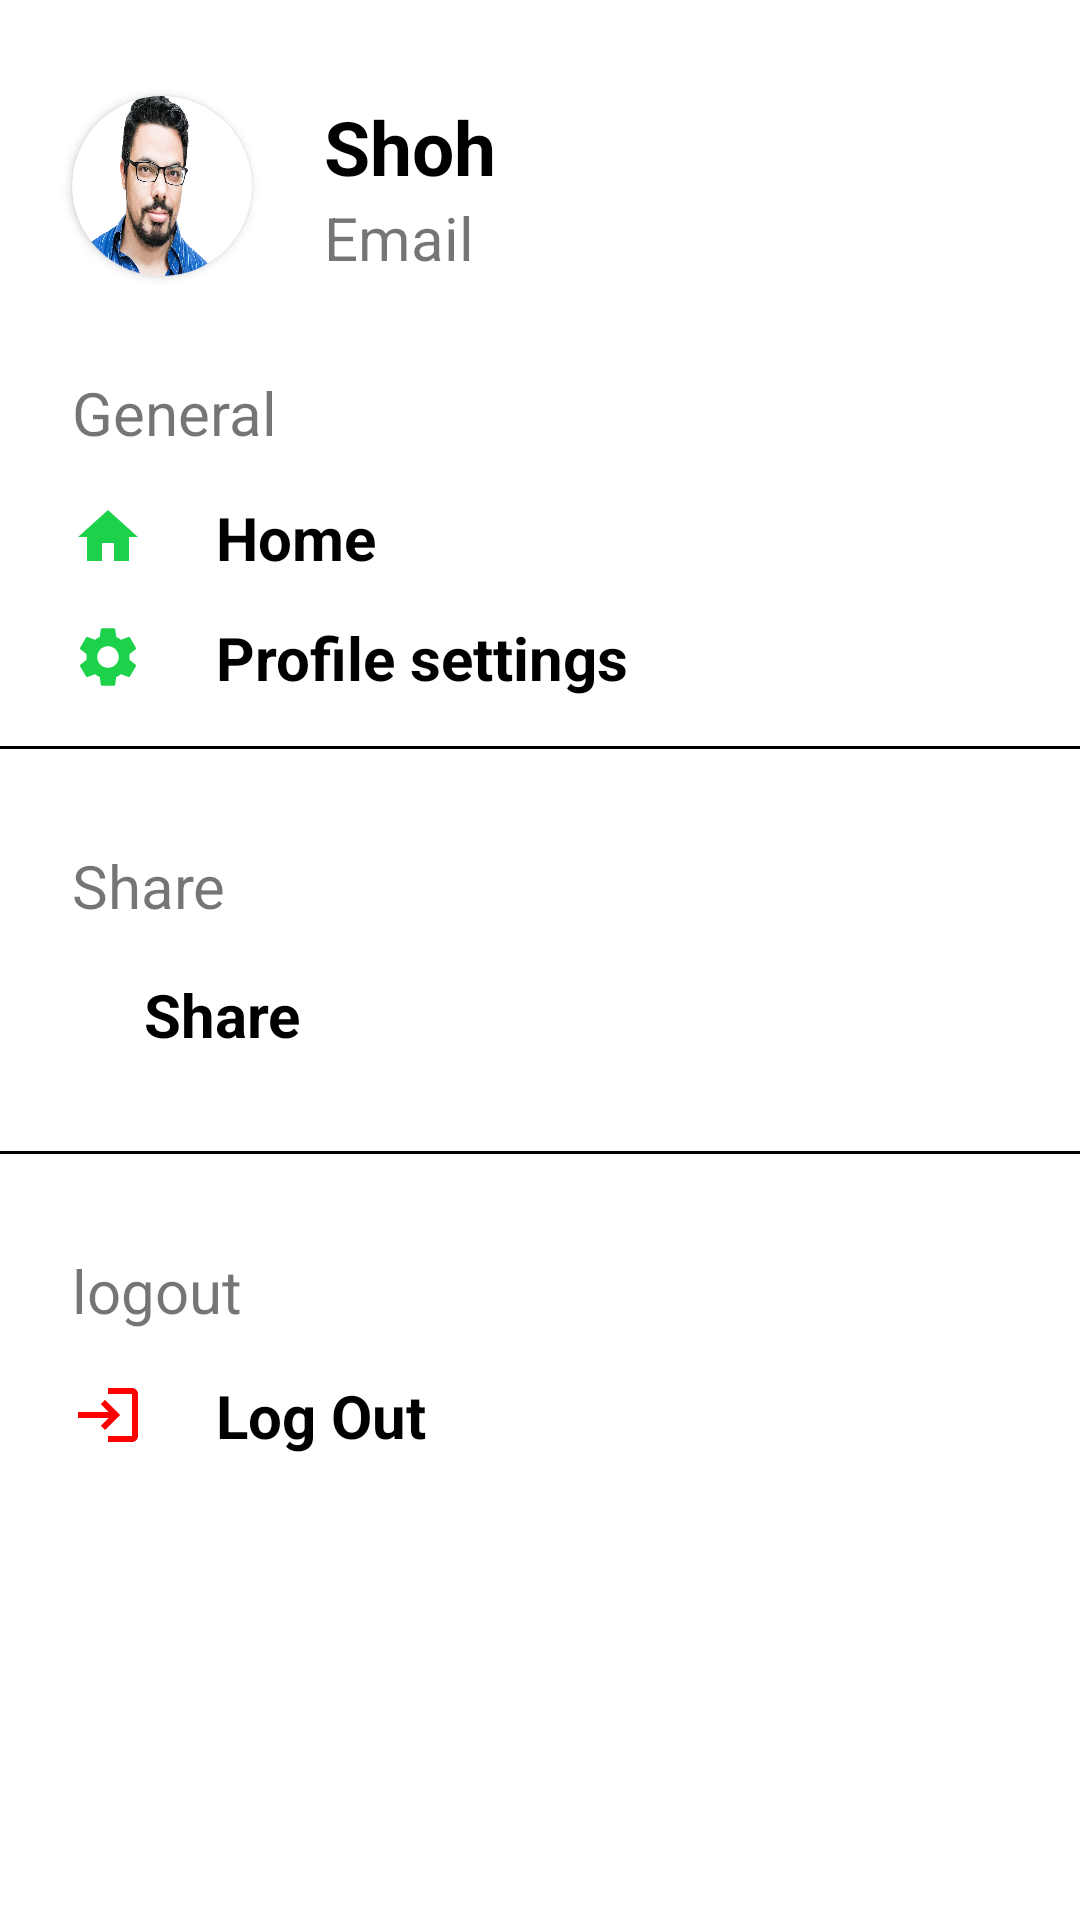

Icon bounding boxes for this 1080 × 1920 phone screenshot, format (x1, y1, x2, y2):
login: (78, 1388, 138, 1442)
